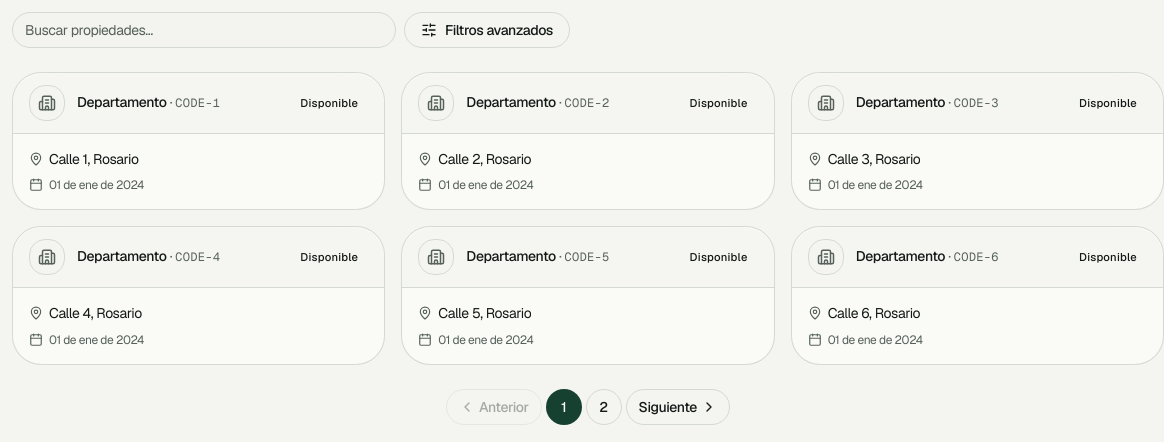
Test: PropertyList › omits the create CTA in the empty states when canCreate=false
Type "zzzzzz" into the search field with test id "property-toolbar-search" at (204, 30), box [12,12,396,48]
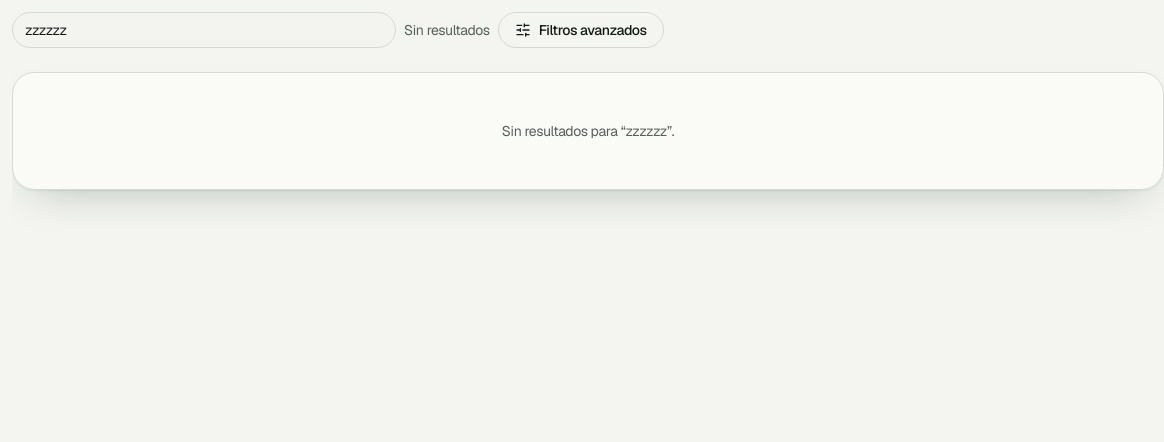
Expected: the message "Sin resultados para “zzzzzz”." is shown, [12,72,1163,190]
